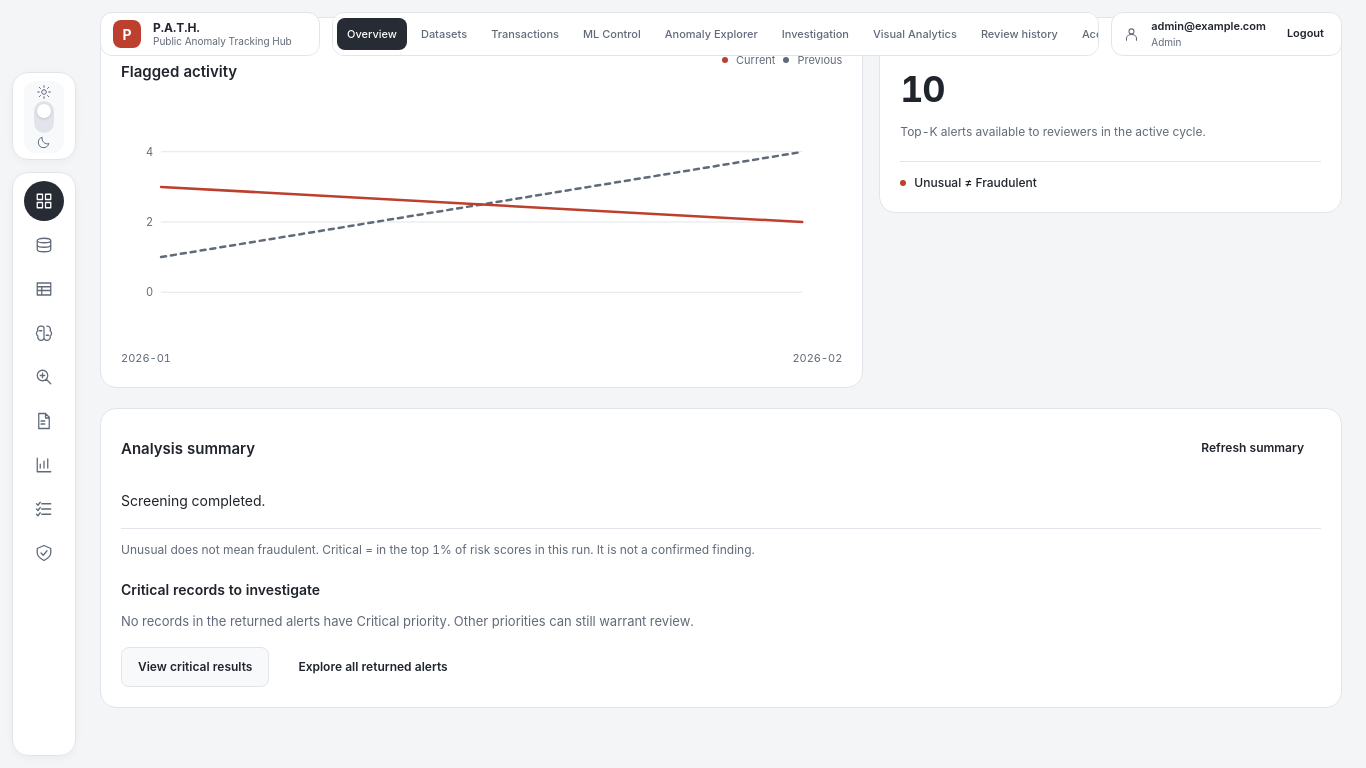
Test: guided analysis and human review › opens the critical risk filter from the summary and handles no critical records
This screenshot has width=1366, height=768.
(page scrolled)
Check: the text "No records in the returned alerts" is shown, box top-left (121, 613), bottom-right (694, 629)
Click the link "View critical results" at (195, 667), box top-left (121, 647), bottom-right (269, 687)
(page scrolled)
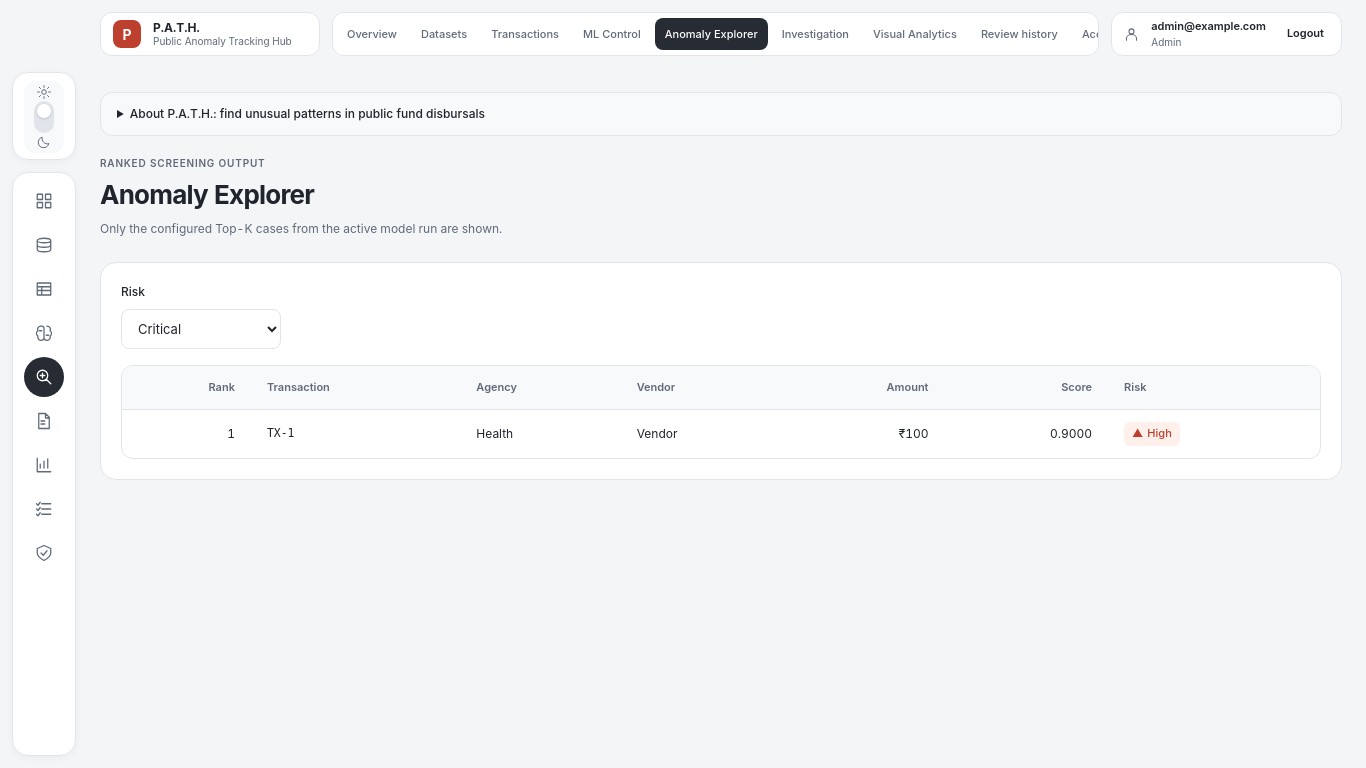
Check: the dropdown labelled "Risk" shows "Critical", box top-left (121, 308), bottom-right (281, 348)
